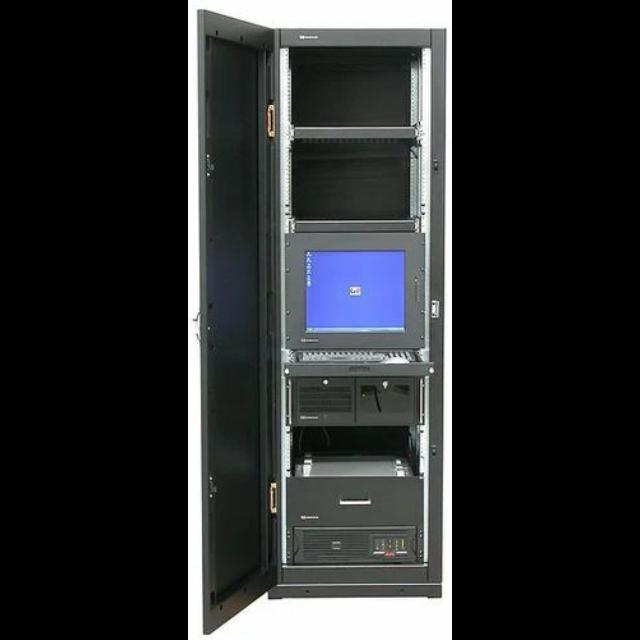Server: (198, 5, 452, 640)
